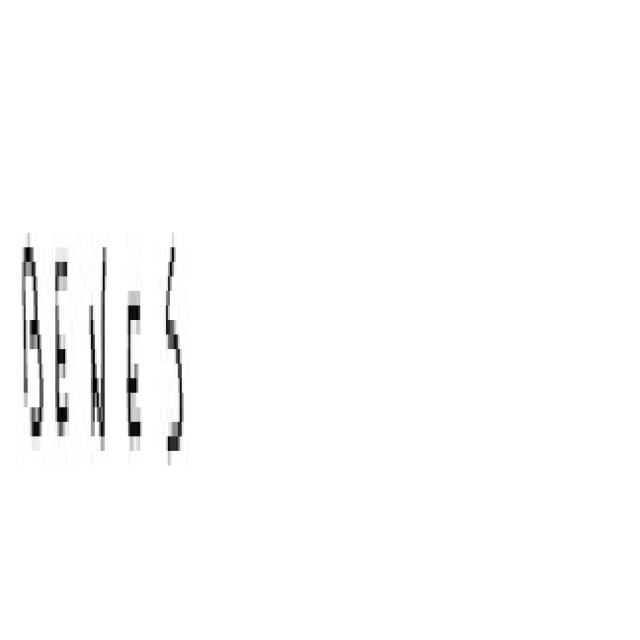B: (14, 186, 49, 553)
E: (121, 216, 155, 583), (51, 186, 80, 549)
N: (82, 208, 116, 553)
S: (159, 204, 197, 579)
